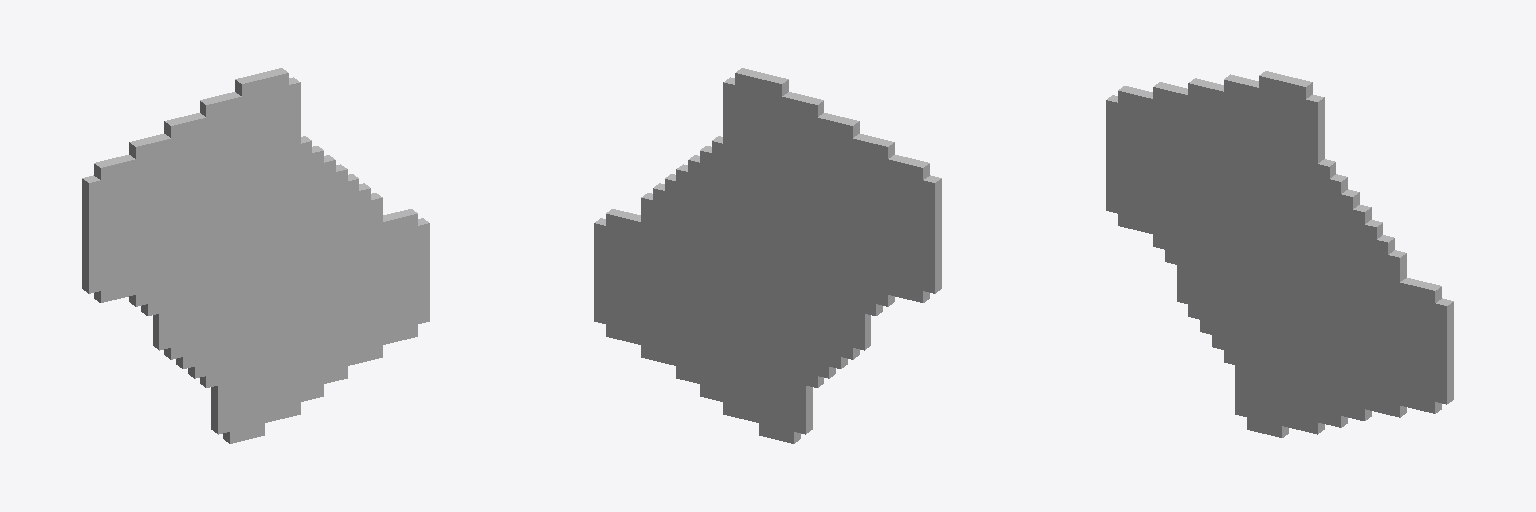
The model's file is Bed.obj.
3 renders of one model, left to right at view 1: azimuth 30°, elevation 25°; view 2: azimuth 150°, elevation 25°; view 3: azimuth 330°, elevation 25°, orthographic.
Parts seen in each view (by area): view 1: object 1; view 2: object 1; view 3: object 1.
Part boxes in pixels (left/top/right/bottom): object 1: left=82, top=68, right=429, bottom=443; object 1: left=594, top=68, right=941, bottom=443; object 1: left=1106, top=71, right=1453, bottom=437.
Bounding box in the file's own units: 2.9 × 2.9 × 0.1.